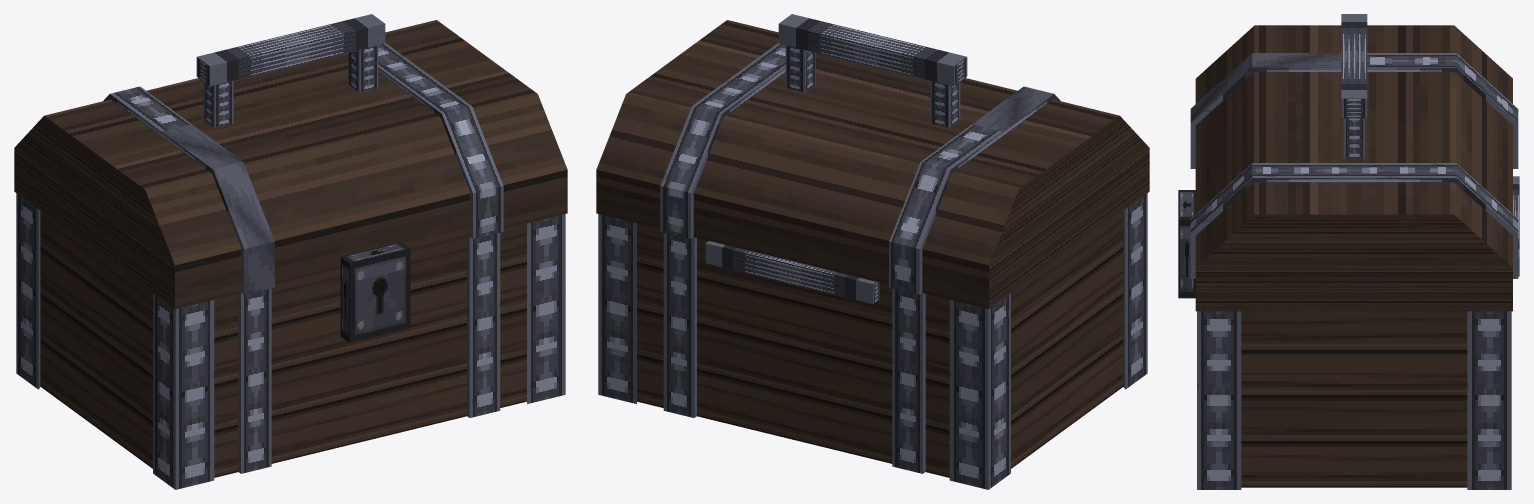
File: chest_guard.glb
The picture shows the model from 3 angles, left to right: view 1: azimuth 30°, elevation 25°; view 2: azimuth 150°, elevation 25°; view 3: azimuth 270°, elevation 25°; orthographic projection.
Parts seen in each view (by area): view 1: lid, base, lock; view 2: lid, base; view 3: lid, base, lock.
Part boxes in pixels (<box>): lid: <box>14,14,567,308</box>; base: <box>16,193,565,489</box>; lock: <box>340,242,410,342</box>; lid: <box>596,14,1149,308</box>; base: <box>598,193,1147,489</box>; lid: <box>1190,14,1518,311</box>; base: <box>1197,176,1519,489</box>; lock: <box>1178,190,1195,298</box>.
Bounding box in the file's own units: 1.03 × 0.862 × 0.785.
1 material, 1 textured.
